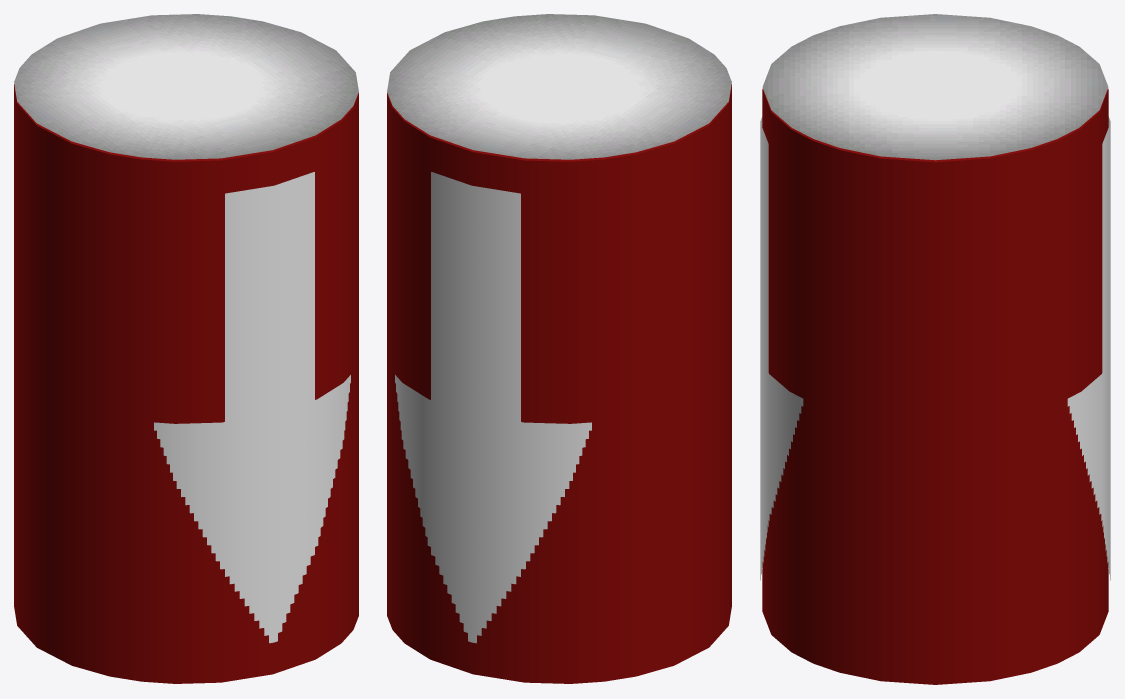
Rendered from thruster.obj.
3 renders of one model, left to right at view 1: azimuth 30°, elevation 25°; view 2: azimuth 150°, elevation 25°; view 3: azimuth 270°, elevation 25°, orthographic.
Visible parts, largest first — view 1: Thruster1, Thruster4, Thruster3; view 2: Thruster1, Thruster2, Thruster3; view 3: Thruster1, Thruster3, Thruster2, Thruster4.
Part boxes in pixels (x1,y1,x2,y2): Thruster1: [14, 84, 358, 683]; Thruster4: [154, 172, 350, 643]; Thruster3: [14, 14, 358, 159]; Thruster1: [387, 84, 731, 683]; Thruster2: [395, 172, 591, 643]; Thruster3: [387, 14, 731, 159]; Thruster1: [762, 88, 1108, 684]; Thruster3: [762, 14, 1108, 160]; Thruster2: [1067, 117, 1110, 580]; Thruster4: [760, 117, 803, 580].
Bounding box in the file's own units: 3 × 5.02 × 3.04.
Materials: 4 (3 with a texture image).
